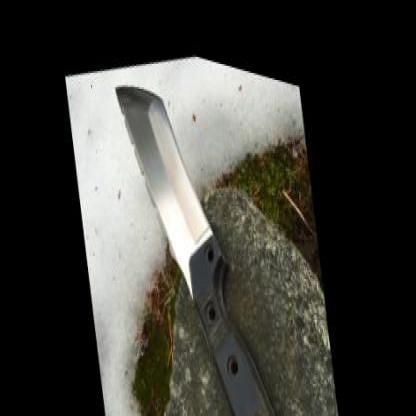knife: (105, 25, 236, 339)
